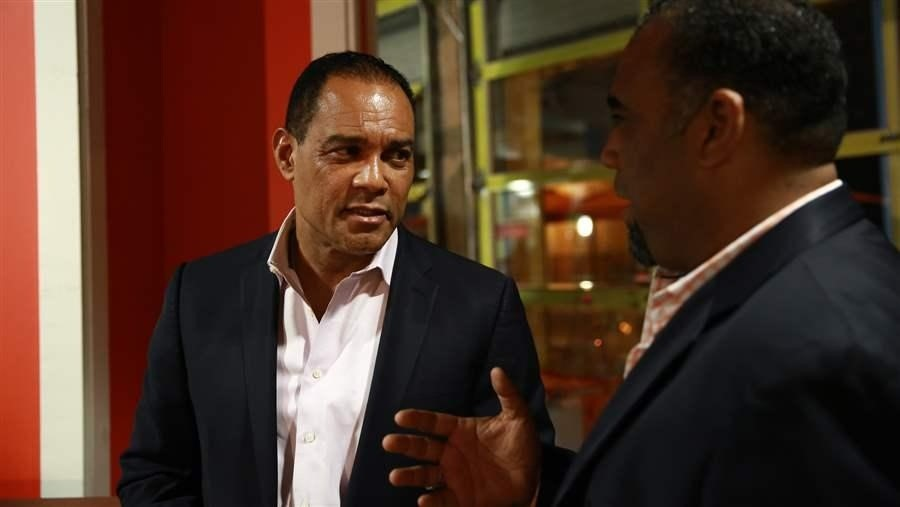face_no_mask: (602, 2, 846, 263), (275, 53, 415, 253)
